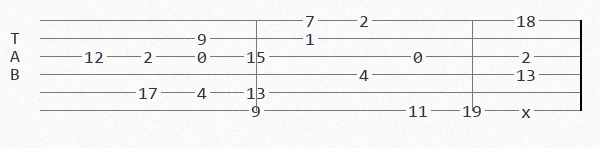0: (197, 49, 211, 64), (413, 49, 427, 64)
1: (305, 31, 319, 46)
11: (408, 103, 432, 118)
12: (84, 49, 108, 64)
13: (246, 85, 270, 100), (516, 67, 540, 82)
15: (246, 49, 270, 64)
17: (138, 85, 162, 100)
18: (516, 13, 540, 28)
19: (462, 103, 486, 118)
2: (143, 49, 157, 64), (359, 13, 373, 28), (521, 49, 535, 64)
4: (197, 85, 211, 100), (359, 67, 373, 82)
7: (305, 13, 319, 28)
9: (197, 31, 211, 46), (251, 103, 265, 118)
x: (521, 104, 535, 117)
